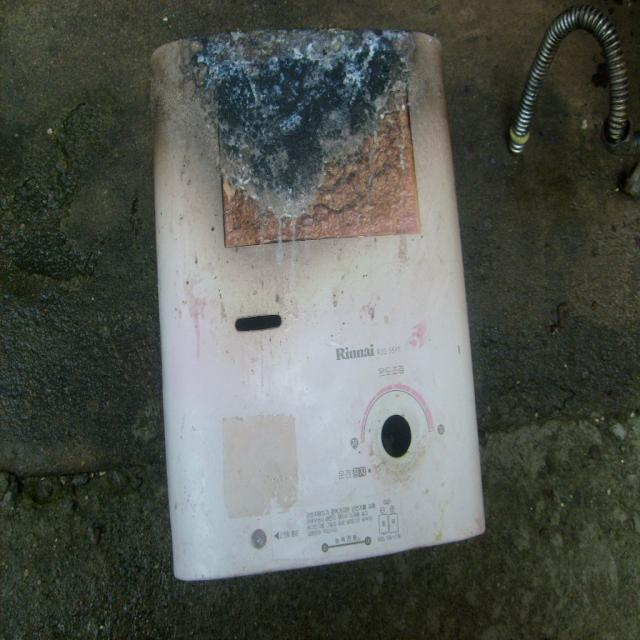Boiler: (118, 9, 514, 588)
